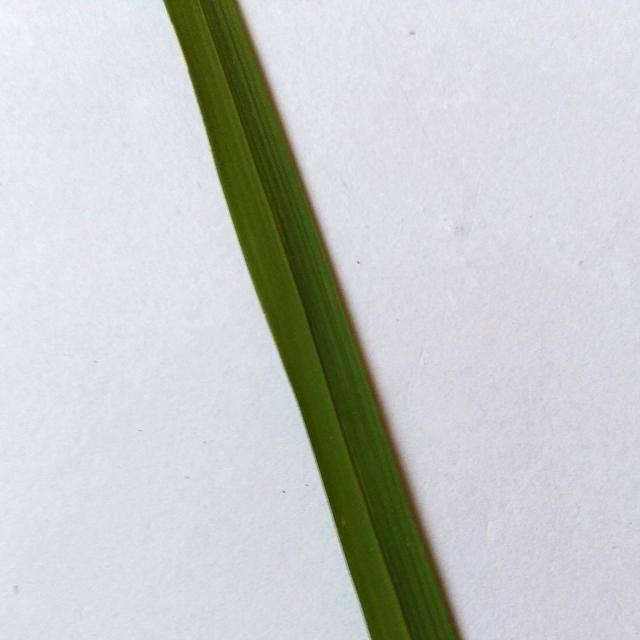healthy: (137, 0, 490, 640)
